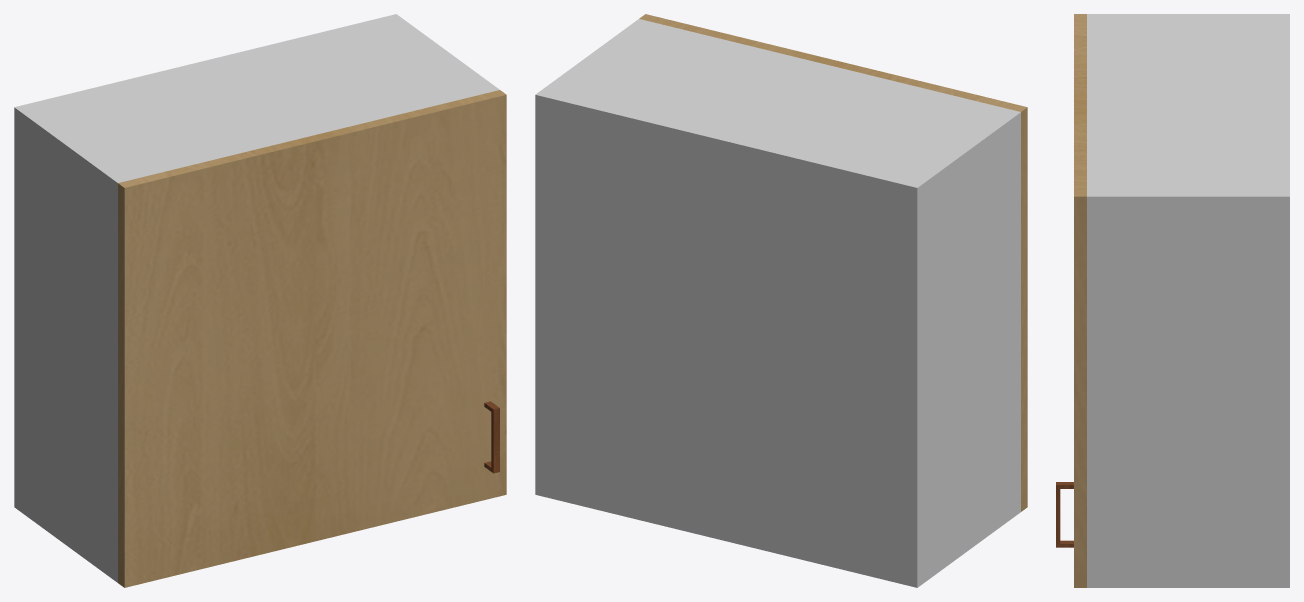
The model's file is wall-600.glb.
3 views of the same model, side by side, from view 1: azimuth 30°, elevation 25°; view 2: azimuth 150°, elevation 25°; view 3: azimuth 270°, elevation 25° (orthographic). The views are drawn at different scales.
Visible parts, largest first — view 1: Mesh_1_group, Mesh_0_group, Mesh_2_group; view 2: Mesh_0_group, Mesh_1_group; view 3: Mesh_0_group, Mesh_1_group, Mesh_2_group.
Part boxes in pixels (<box>): Mesh_1_group: <box>118,90,506,587</box>; Mesh_0_group: <box>14,14,499,582</box>; Mesh_2_group: <box>484,401,499,473</box>; Mesh_0_group: <box>535,19,1020,587</box>; Mesh_1_group: <box>639,14,1027,511</box>; Mesh_0_group: <box>1087,14,1289,587</box>; Mesh_1_group: <box>1074,14,1086,587</box>; Mesh_2_group: <box>1056,482,1073,547</box>.
Size of the model in its own units: 0.6 by 0.6 by 0.325.
Materials: 3 (2 with a texture image).
